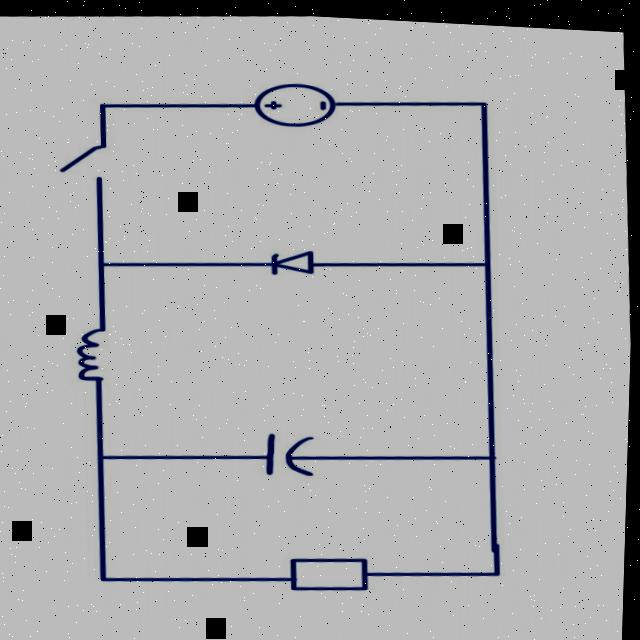capacitor: (231, 413, 346, 489)
diode: (253, 238, 338, 285)
inductor: (48, 319, 140, 401)
resistor: (274, 542, 393, 602)
source: (233, 66, 364, 138)
switch: (41, 122, 125, 202)
